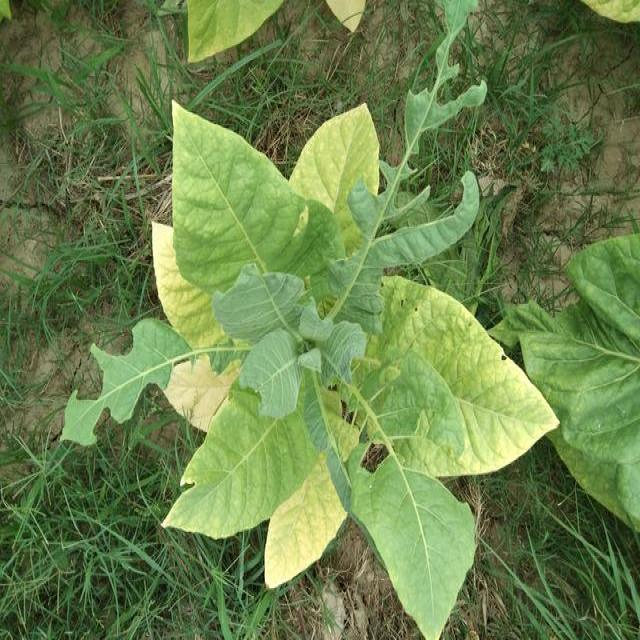crop: (138, 87, 566, 638)
